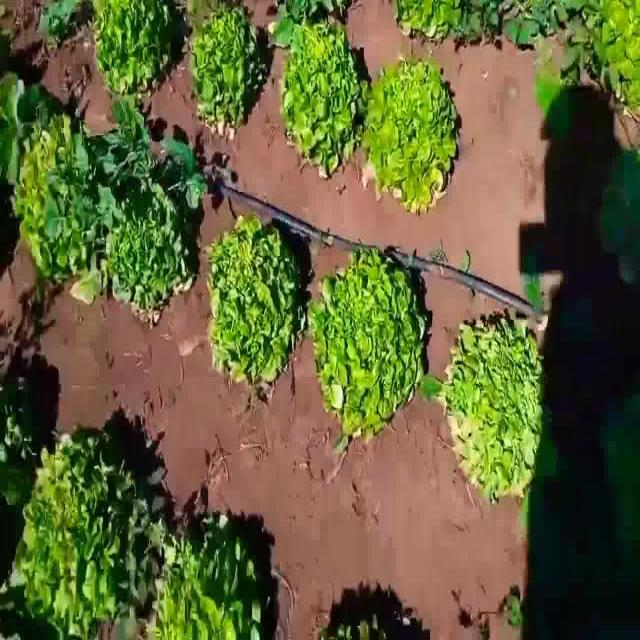Lettuce: (16, 430, 154, 637), (302, 246, 430, 441), (446, 309, 562, 500), (358, 57, 466, 211), (205, 215, 299, 381), (145, 511, 263, 640), (279, 19, 370, 176), (10, 116, 84, 284), (99, 179, 191, 313), (179, 0, 262, 121), (89, 0, 179, 95)
